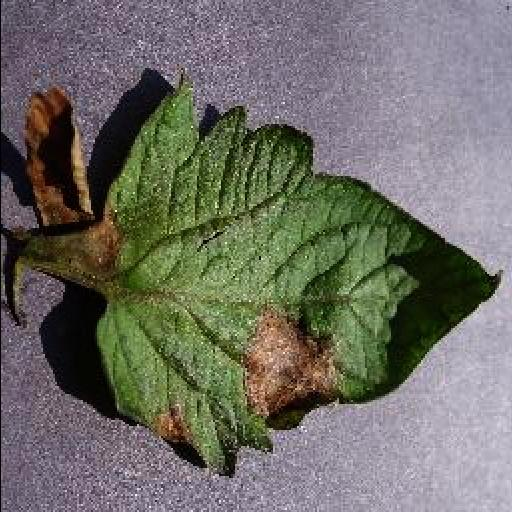disease_tomato: (20, 68, 506, 478)
